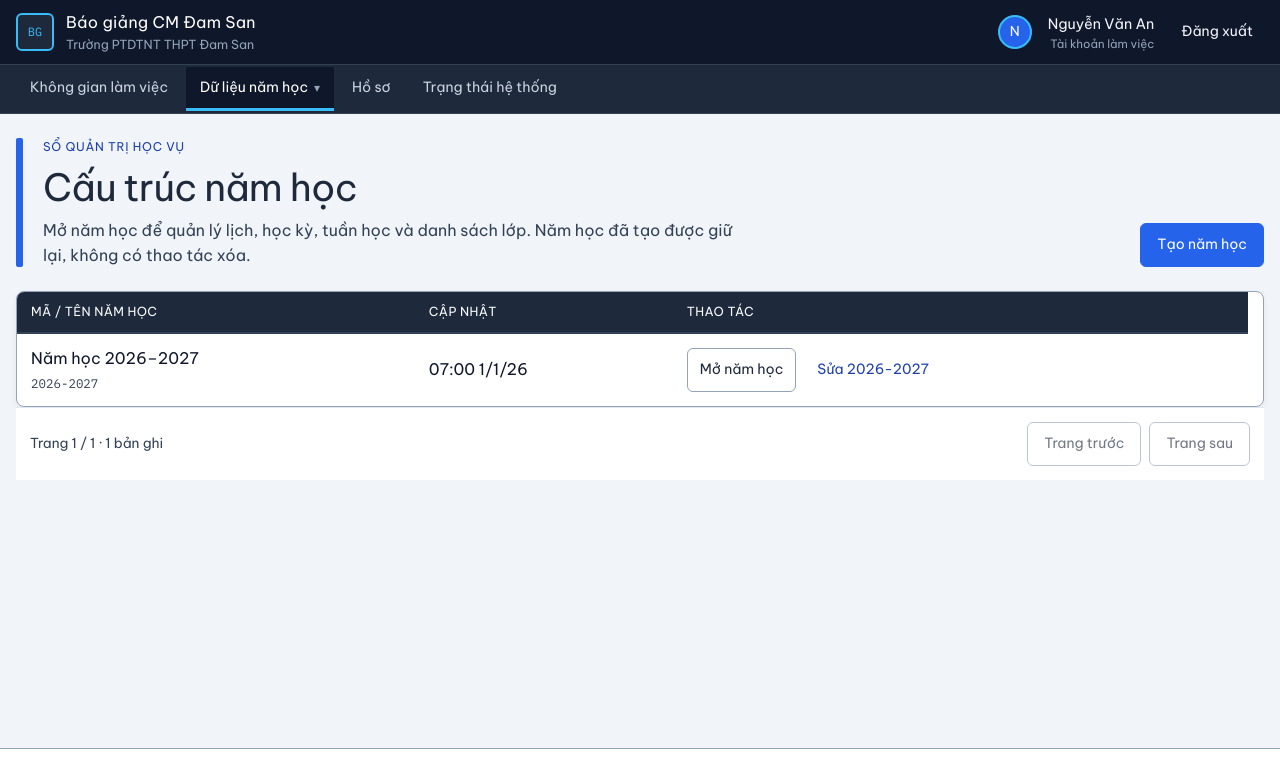
Scenario: academic structure pages › clears stale AcademicYear mutation feedback when an explicit new workflow begins
This screenshot has width=1280, height=767.
Expected: the element named "Sổ năm học" is shown, [16,291,1264,407]
Click the button "Tạo năm học" at (1202,245), box [1140,223,1264,267]
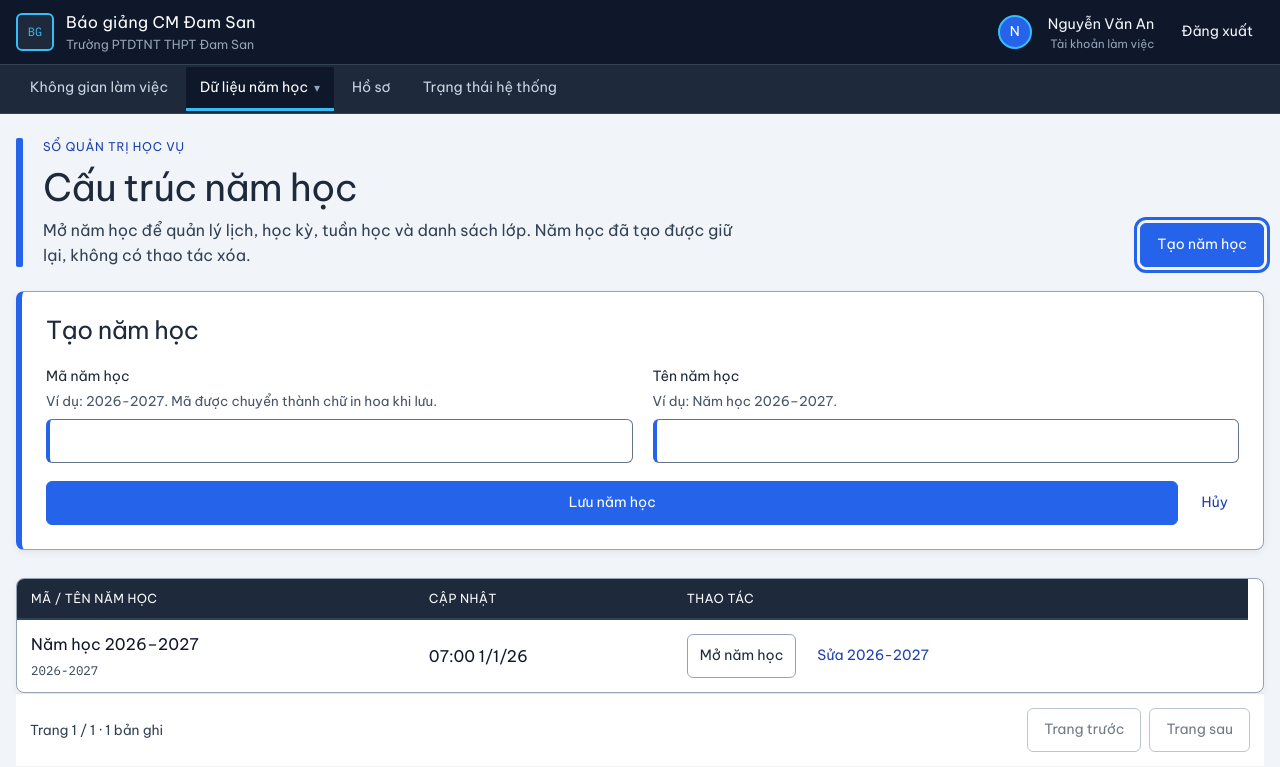
Type "2028" into the field labelled "Mã năm học" at (339,441), box [46,419,632,463]
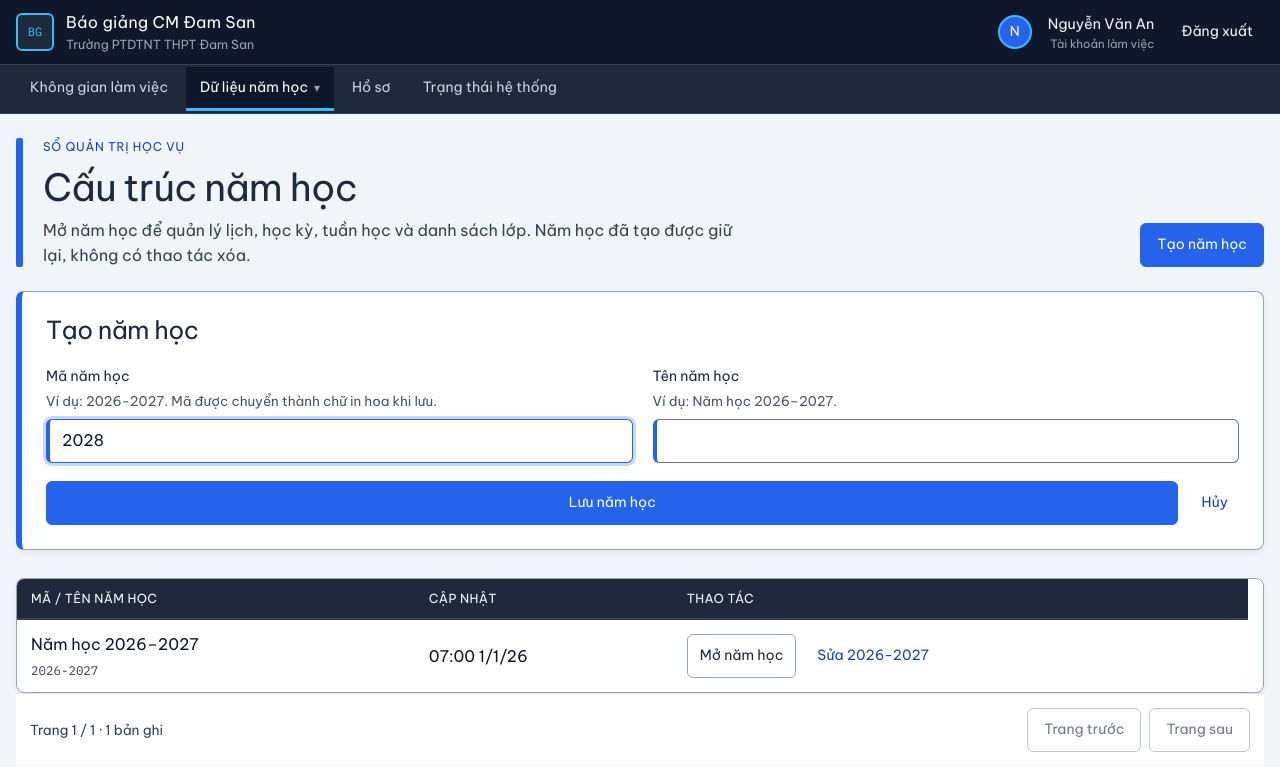
Type "Năm học 2028" into the field labelled "Tên năm học" at (946,441), box [652,419,1239,463]
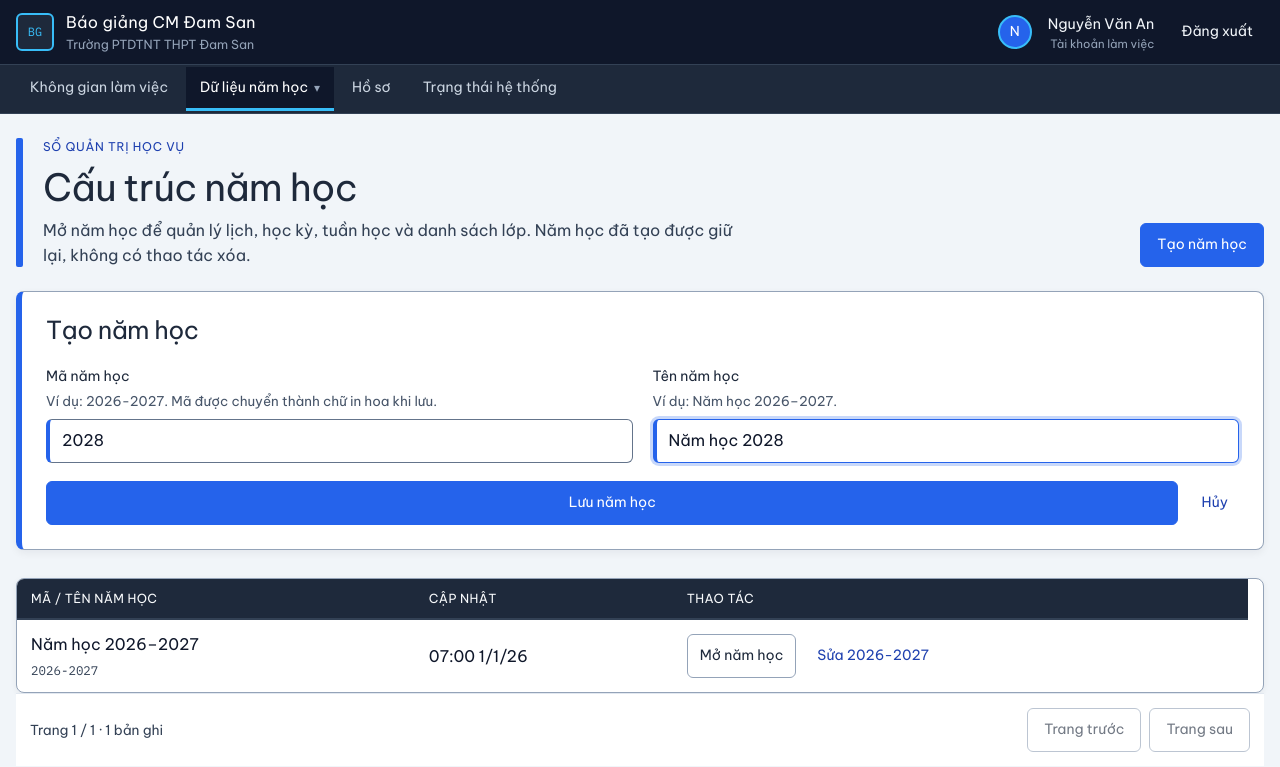
Click the button "Lưu năm học" at (612,503), box [46,481,1178,525]
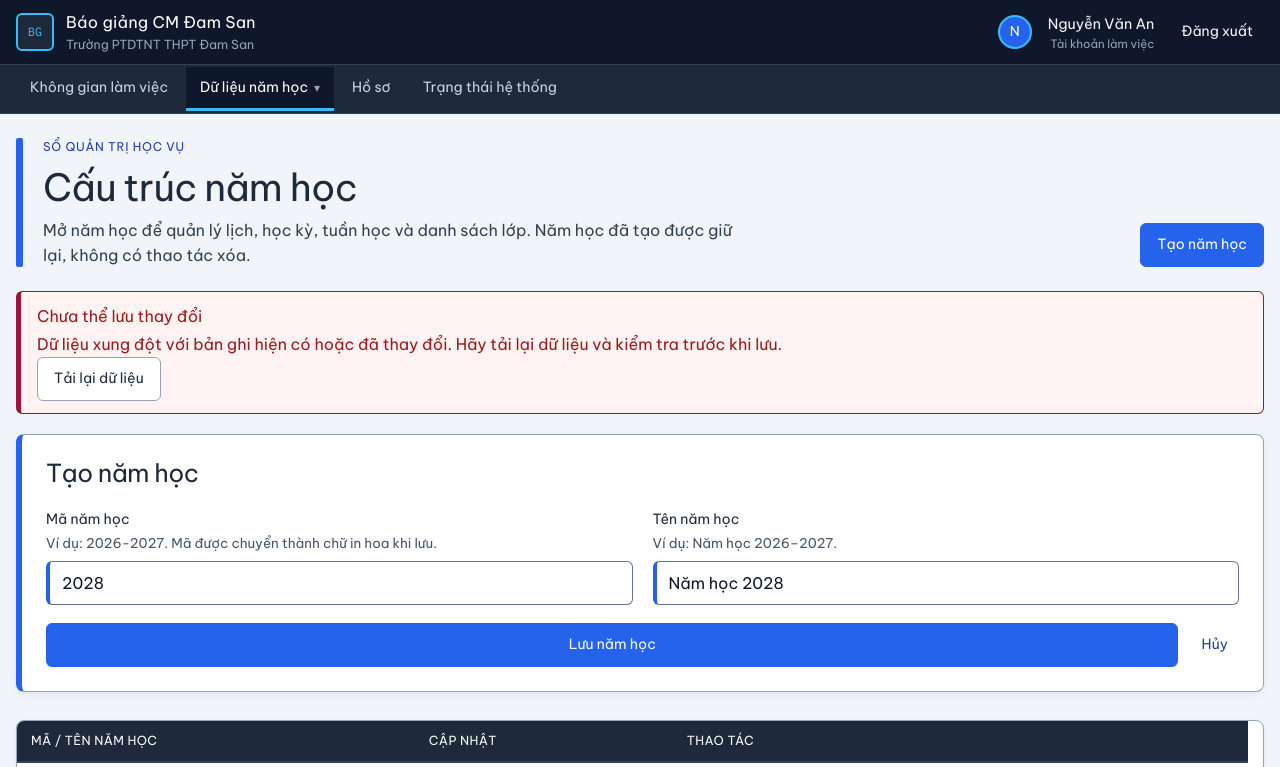
Expected: the text "Dữ liệu xung đột" is shown, [37,334,782,354]
Click the button "Hủy" at (1215,645), box [1190,623,1239,667]
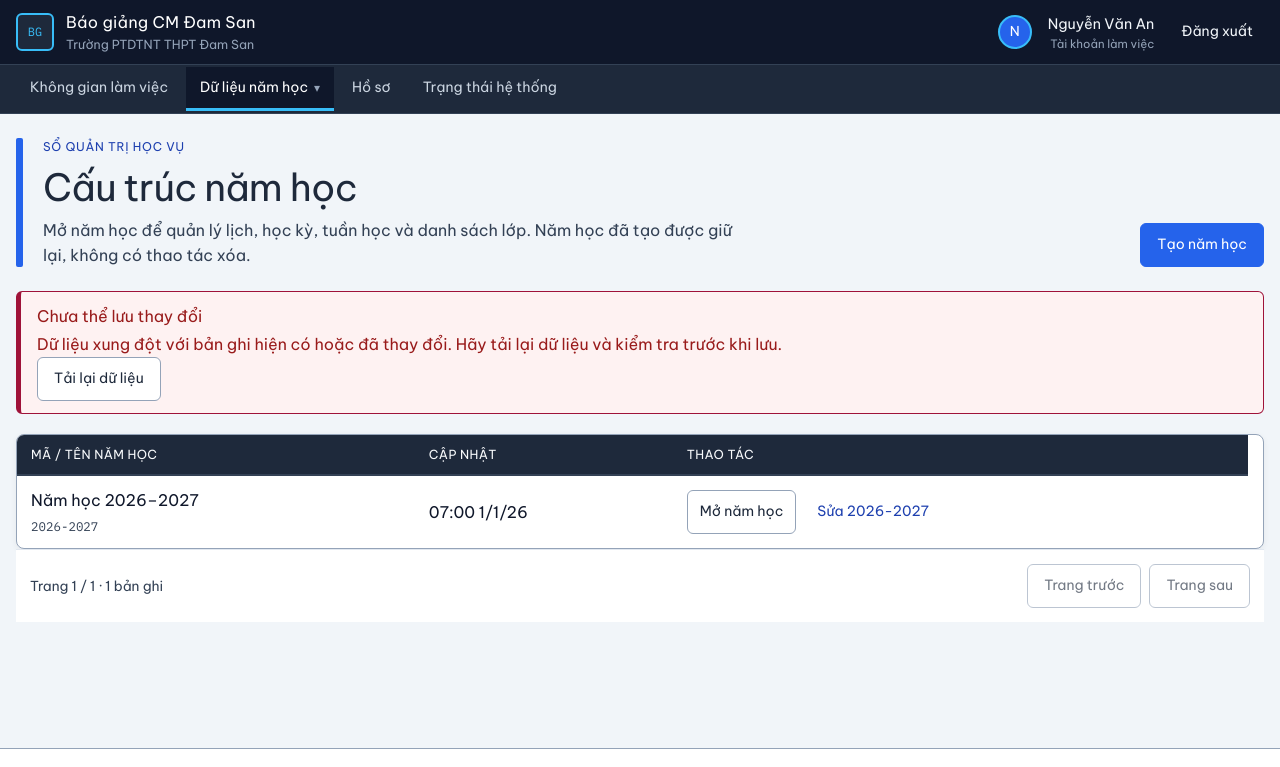
Click the button "Tạo năm học" at (1202,245), box [1140,223,1264,267]
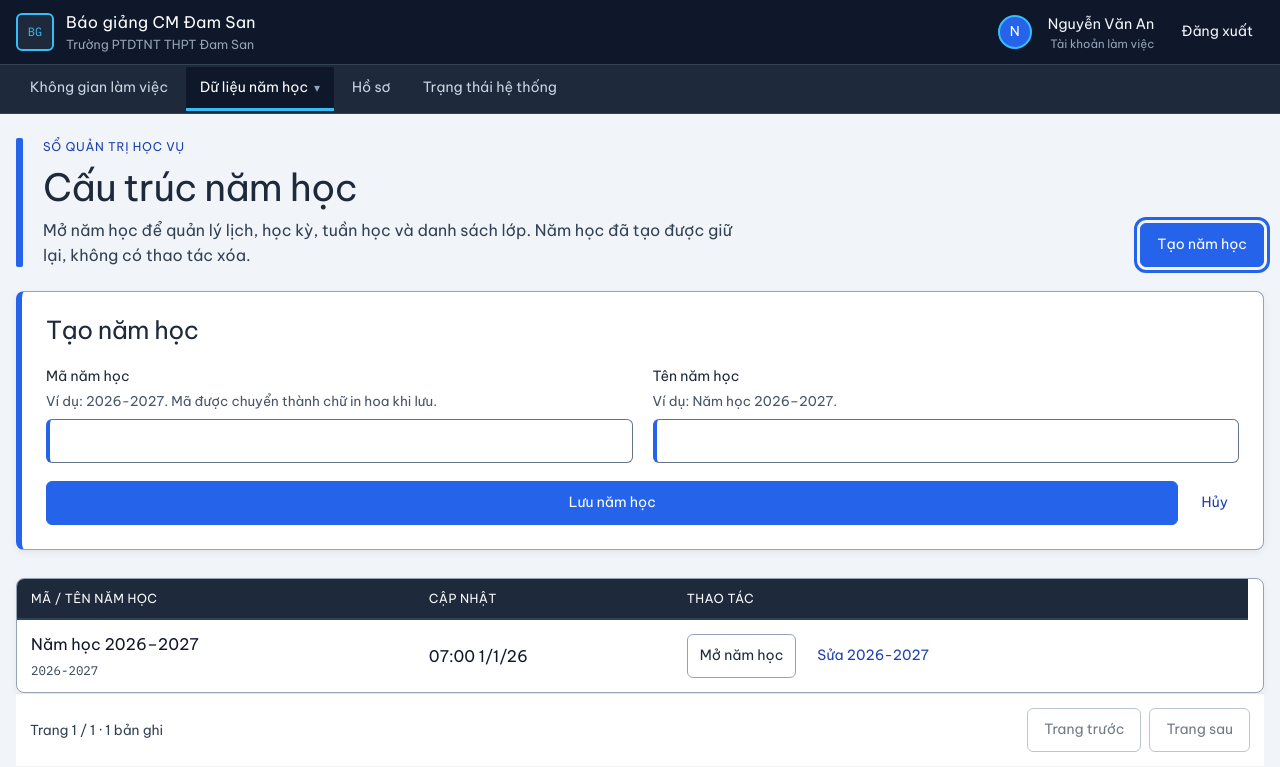
Expected: the text "Dữ liệu xung đột" is gone
